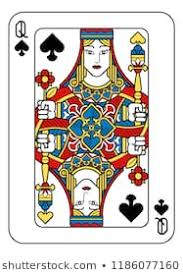queen of spades: (8, 9, 175, 242)
